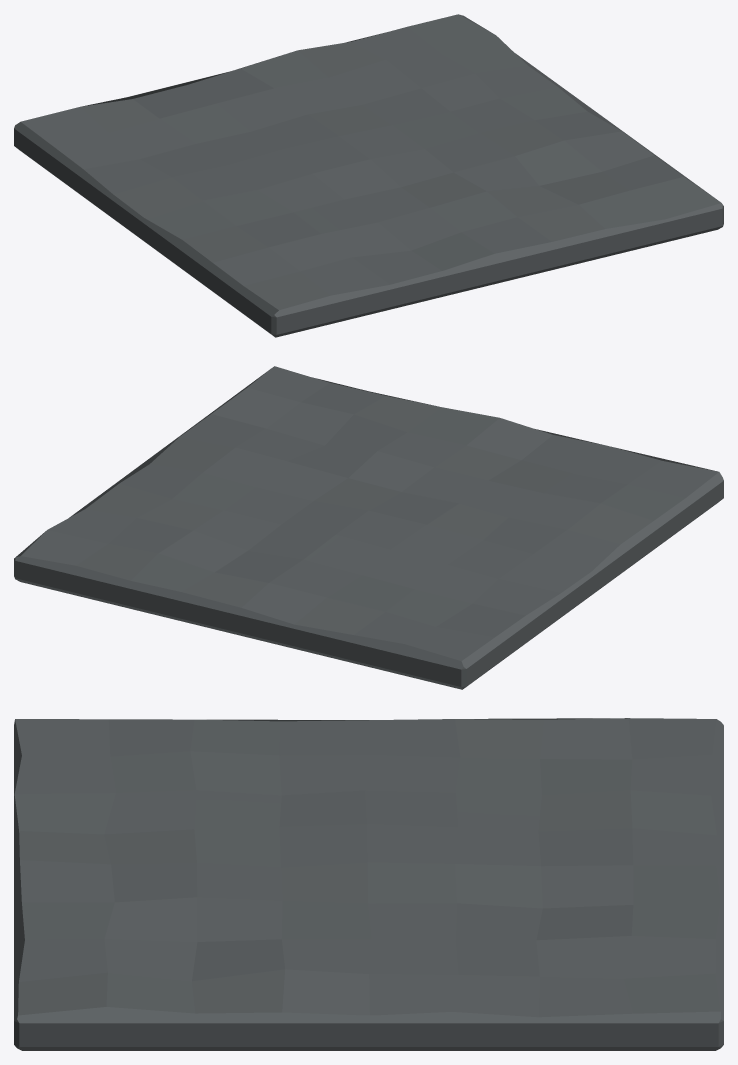
The model's file is stand4.glb.
The picture shows the model from 3 angles, top to bottom: view 1: azimuth 30°, elevation 25°; view 2: azimuth 150°, elevation 25°; view 3: azimuth 270°, elevation 25°; orthographic projection. The views are drawn at different scales.
Parts seen in each view (by area): view 1: StoneSlab; view 2: StoneSlab; view 3: StoneSlab.
Part boxes in pixels (<box>): StoneSlab: <box>14,14,723,337</box>; StoneSlab: <box>14,366,723,689</box>; StoneSlab: <box>14,718,723,1050</box>.
Bounding box in the file's own units: 1.7 × 0.1156 × 1.7.
1 material, 1 textured.
